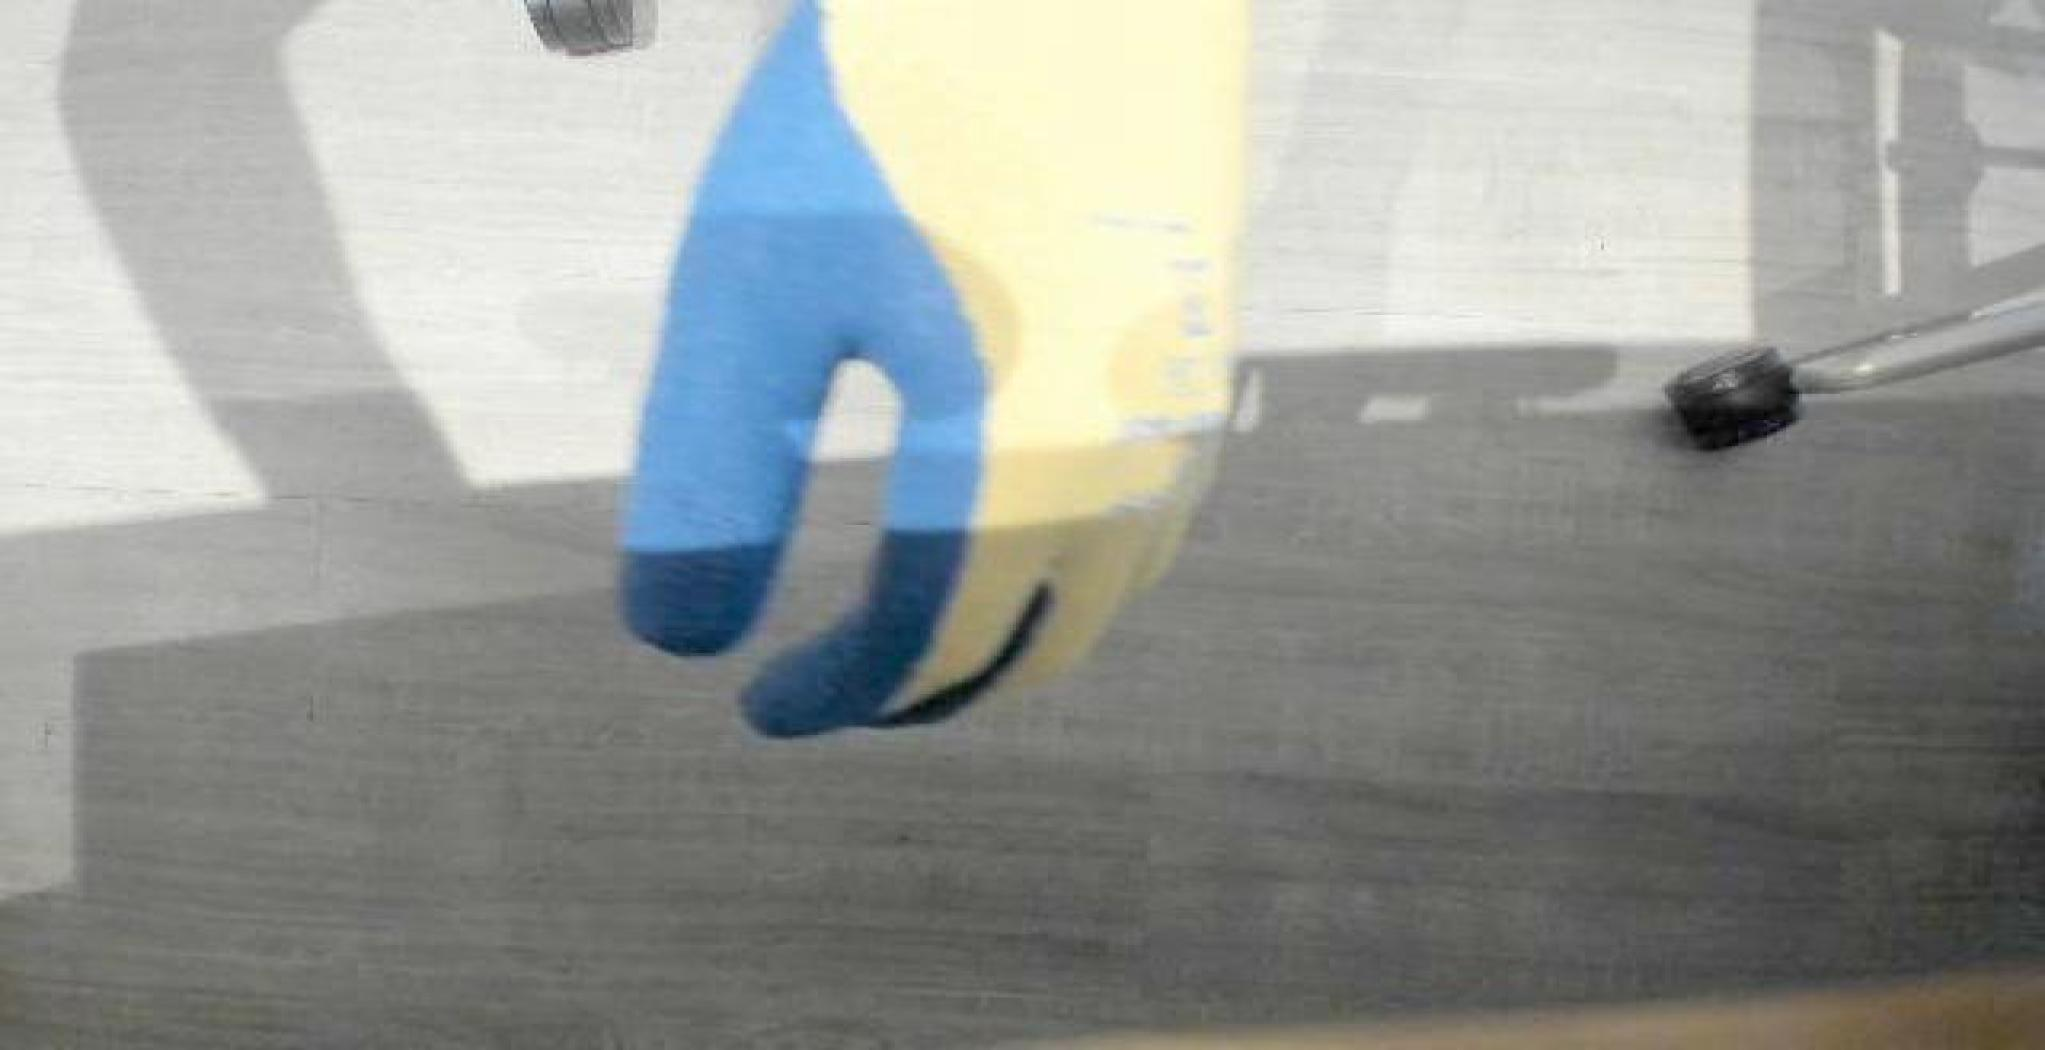gloved: (524, 0, 1259, 740)
